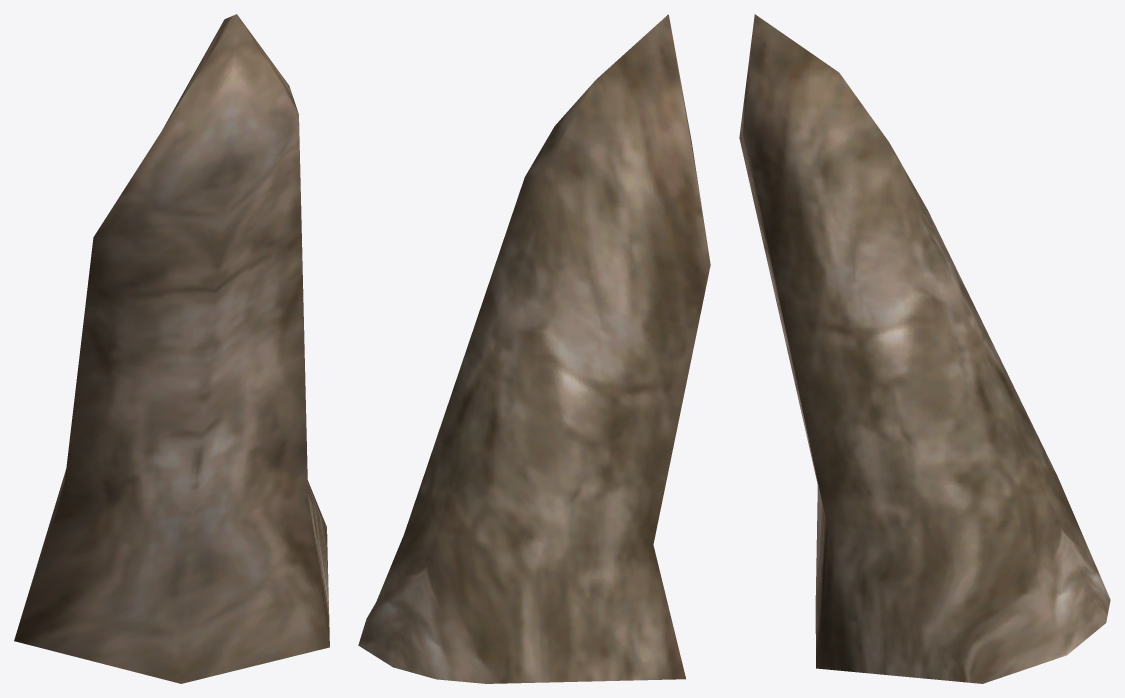
The model's file is OVERHILL_A_01_ROCK30.fbx.
3 views of the same model, side by side, from view 1: azimuth 30°, elevation 25°; view 2: azimuth 150°, elevation 25°; view 3: azimuth 270°, elevation 25° (orthographic). The views are drawn at different scales.
Visible parts, largest first — view 1: OVERHILL_A_01_ROCK30; view 2: OVERHILL_A_01_ROCK30; view 3: OVERHILL_A_01_ROCK30.
Boxes of the visible parts, x1,y1,x2,y2 form: OVERHILL_A_01_ROCK30: (14,14,329,683); OVERHILL_A_01_ROCK30: (358,14,710,683); OVERHILL_A_01_ROCK30: (739,14,1110,683).
Bounding box in the file's own units: 21358 × 41105 × 23044.
1 material, 1 textured.
